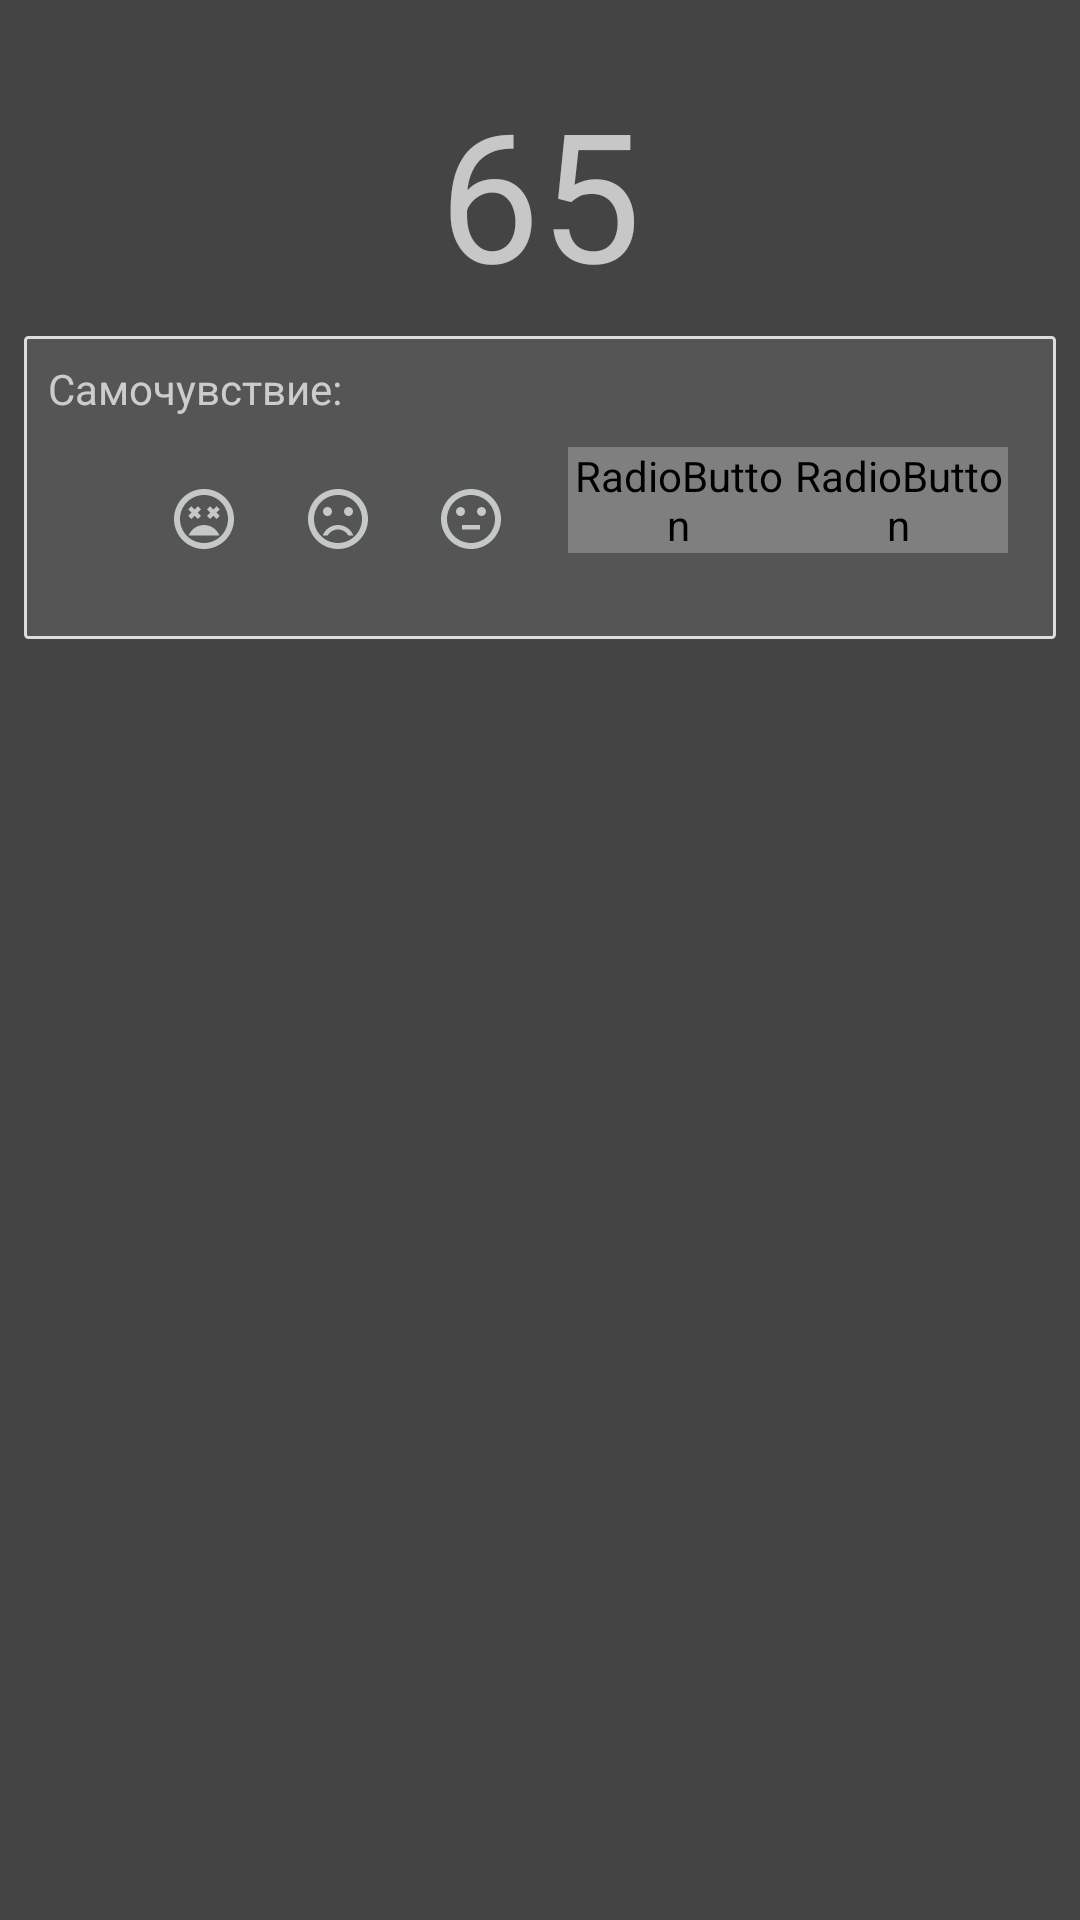

Locate icon controls on the screen. Image size 1080w x 1920h, boxes as bbox=[x1, y1, x2, y2].
state of health: bbox=[441, 489, 501, 549]
